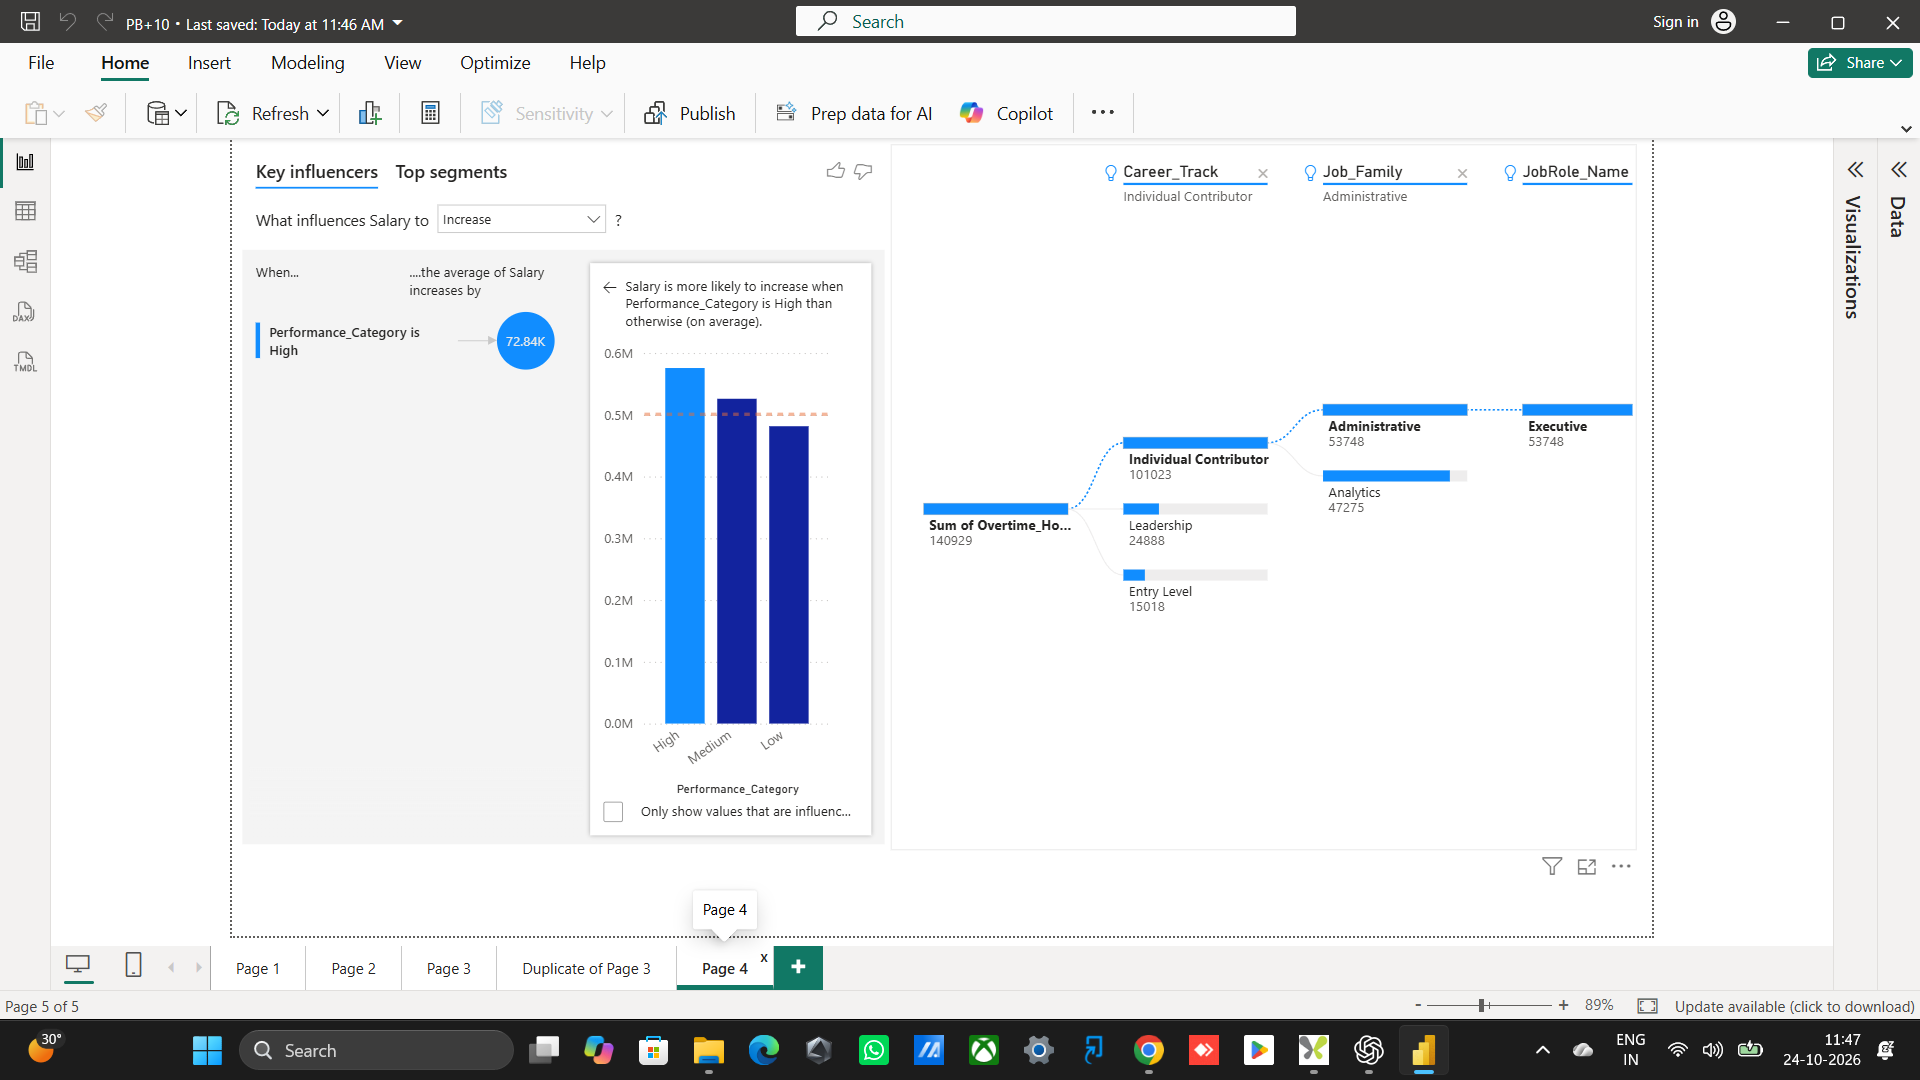

The dashboard page shown, as its layout file describes it:
{"tool":"powerbi","page":{"name":"Page 4","canvas":[1280,720],"ordinal":4},"visuals":[{"type":"keyDriversVisual","fields":{"Target":["HR_Fact.Salary"],"ExplainBy":["HR_Fact.Performance_Category"]},"box":[4.5,6.1,589,636],"z":0},{"type":"decompositionTreeVisual","fields":{"Analyze":["Sum(HR_Fact.Overtime_Hours)"],"ExplainBy":["Dim_JobRole.Career_Track","Dim_JobRole.Job_Family","Dim_JobRole.JobRole_Name"]},"box":[593.6,6.1,673.8,636],"z":1000}]}

Visuals, with their boxes on the page's 1280x720 design canvas (x1, y1, x2, y2). These are canvas units, not pixel positions in the 1920x1080 screenshot, which may show the page scaled, cropped or inside an application window:
keyDriversVisual - HR_Fact.Salary x HR_Fact.Performance_Category: select_region(4, 6, 594, 642)
decompositionTreeVisual - Sum(HR_Fact.Overtime_Hours) x Dim_JobRole.Career_Track: select_region(594, 6, 1267, 642)
